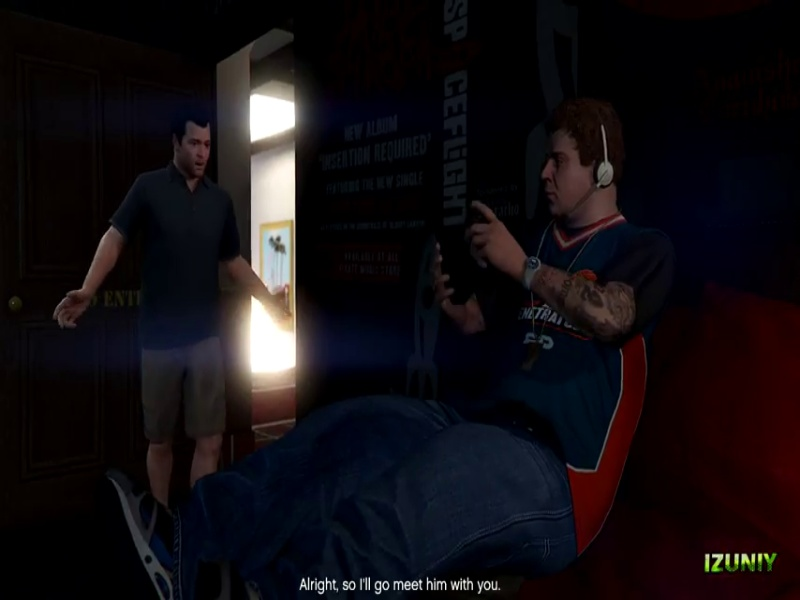licenseplate: (248, 60, 514, 128)
